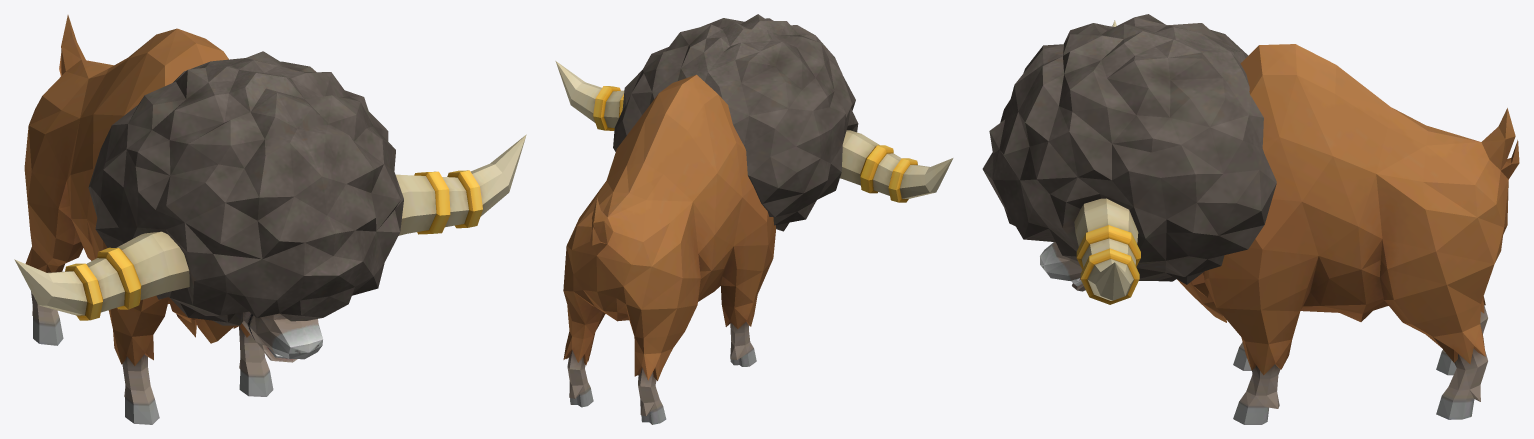
3 views of the same model, side by side, from view 1: azimuth 30°, elevation 25°; view 2: azimuth 150°, elevation 25°; view 3: azimuth 270°, elevation 25° (orthographic). The views are drawn at different scales.
Visible parts, largest first — view 1: Object_2; view 2: Object_2; view 3: Object_2.
Part boxes in pixels (bbox=[...]): Object_2: bbox=[14, 15, 526, 424]; Object_2: bbox=[555, 14, 953, 424]; Object_2: bbox=[982, 14, 1519, 424].
Size of the model in its own units: 23.77 by 16.5 by 22.25.
Materials: 2 (2 with a texture image).
